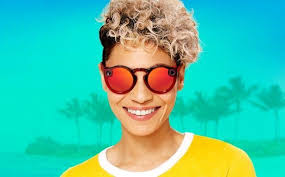Glasses: (99, 62, 182, 98)
